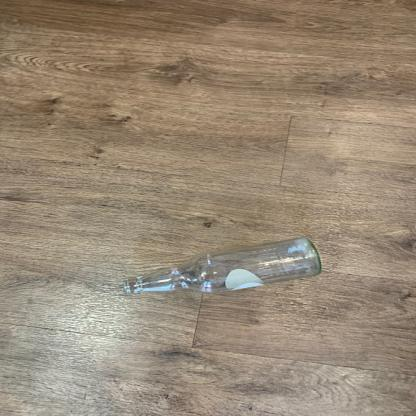trash: (119, 234, 321, 296)
